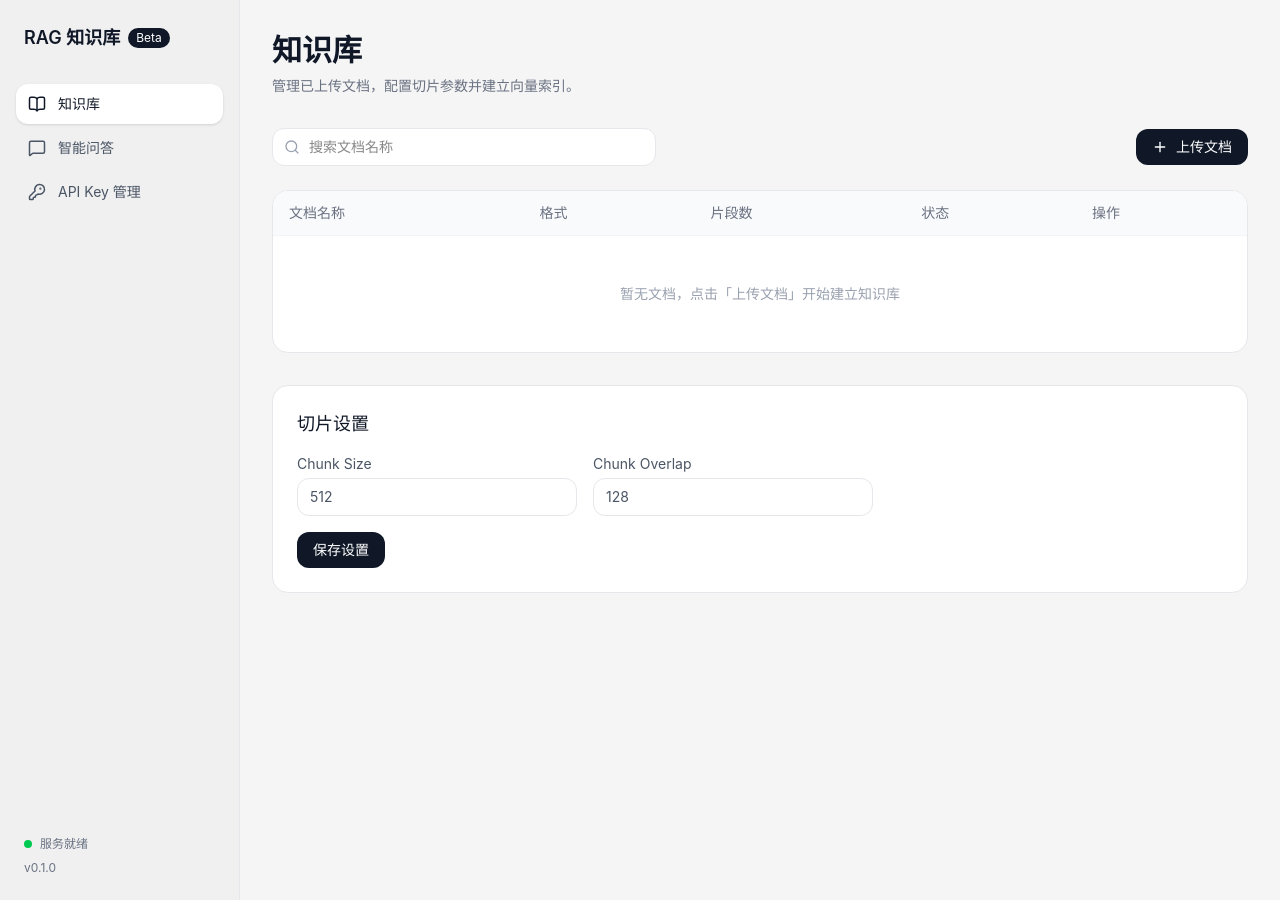
App › 可导航到 API Key 管理页
Expected: the heading "知识库" is shown, [272,32,362,68]
What coordinates should you click on to do the following:
click the link "API Key 管理"
I would click on:
 (84, 192)
Its box is [28,183,141,201].
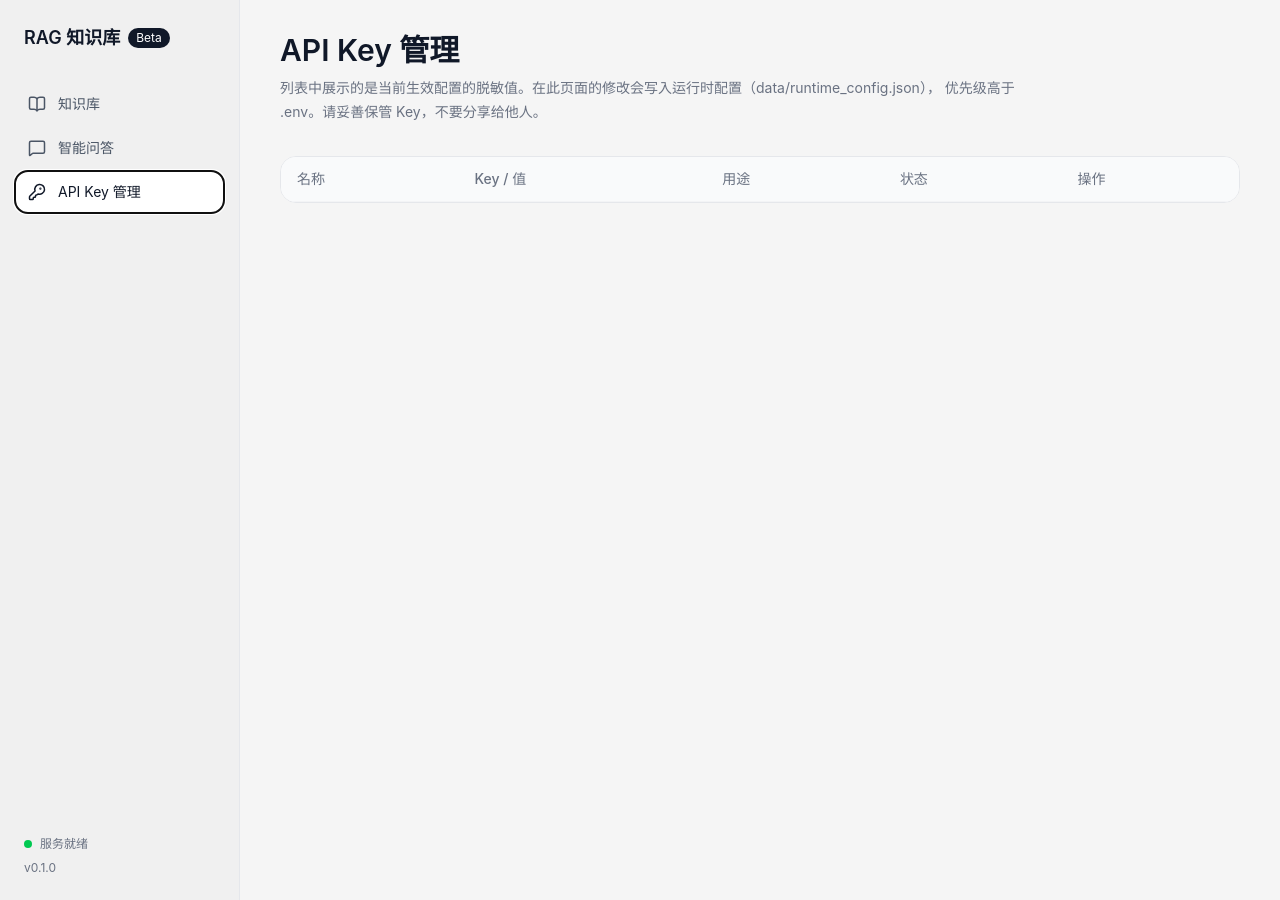
Expected: the heading "API Key 管理" is shown, [280,32,459,68]
